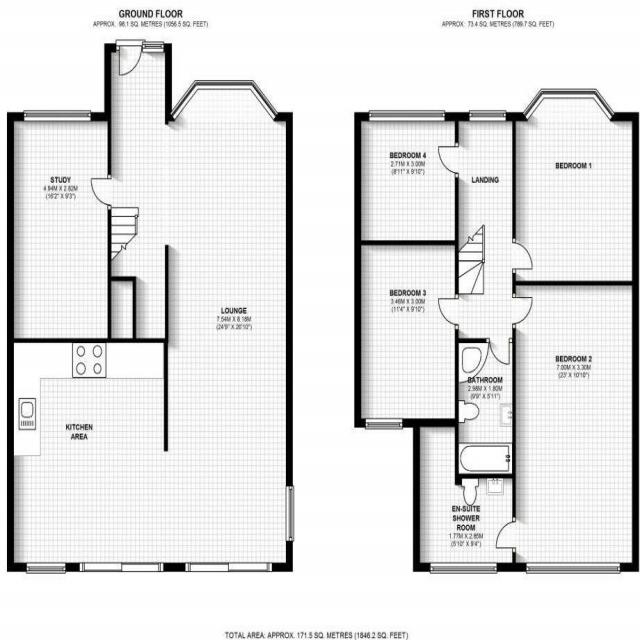DOOR: (437, 293, 459, 331), (90, 173, 112, 211), (495, 515, 516, 554), (511, 292, 533, 329), (485, 338, 513, 366), (512, 237, 533, 274), (438, 141, 459, 178)
ROOM: (7, 41, 294, 572), (491, 278, 639, 573), (512, 89, 639, 286), (7, 110, 112, 343), (354, 240, 459, 430), (354, 110, 459, 246)
WINDOW: (169, 79, 280, 123), (522, 88, 616, 122), (525, 561, 621, 575), (368, 109, 446, 122), (430, 562, 498, 574), (23, 110, 91, 122), (285, 485, 295, 542), (25, 562, 67, 574), (468, 110, 507, 122), (365, 418, 403, 430)
